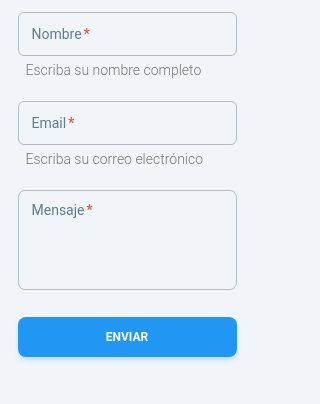
it: ContactForm › should display error message for invalid email format
Type "invalidemail" into the field with test id "email-input" at [127, 123], box x1=18 y1=101 x2=236 y2=145
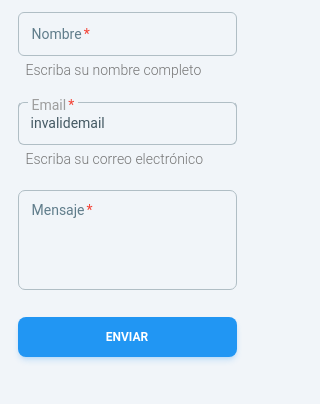
Click the button with test id "submit-button" at [127, 337], box x1=18 y1=317 x2=236 y2=357
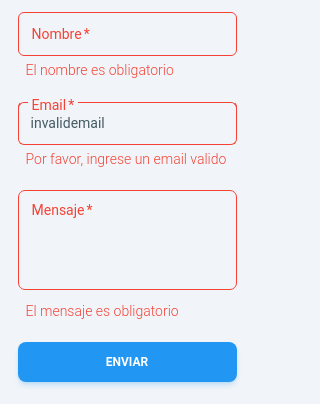
Expected: the text "Por favor, ingrese un email valido" is shown, x1=26 y1=149 x2=236 y2=170
